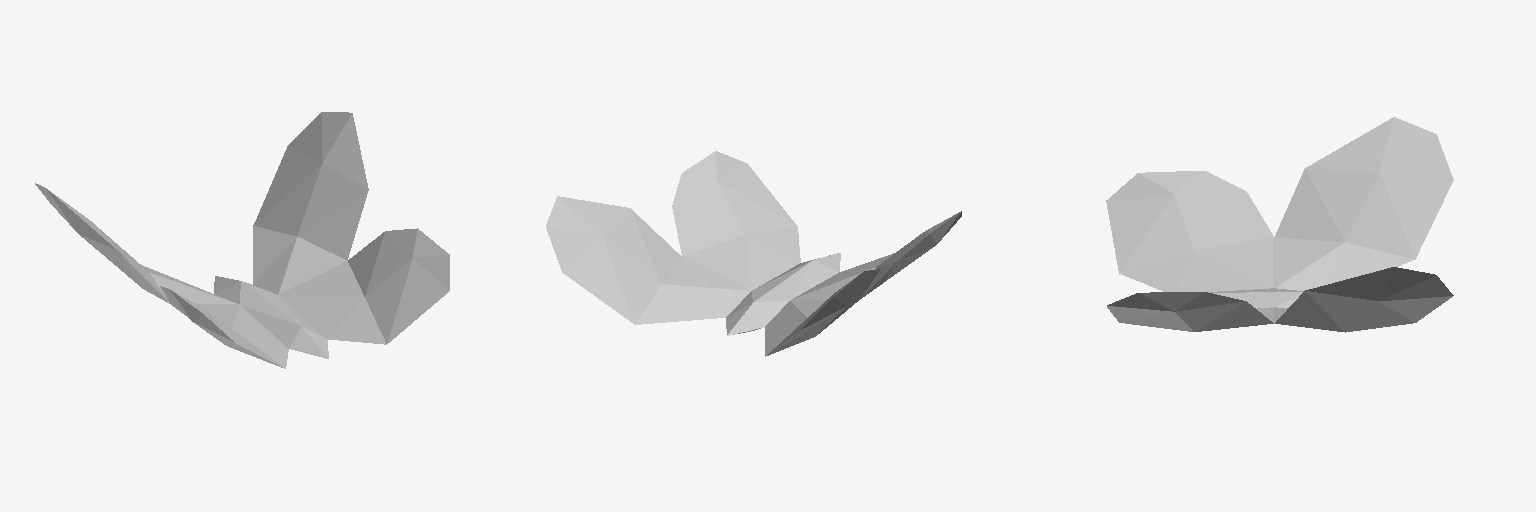
Rendered from ButterflyUp.obj.
3 views of the same model, side by side, from view 1: azimuth 30°, elevation 25°; view 2: azimuth 150°, elevation 25°; view 3: azimuth 270°, elevation 25° (orthographic).
Parts seen in each view (by area): view 1: ButterflyUp; view 2: ButterflyUp; view 3: ButterflyUp.
Boxes of the visible parts, <box> form: ButterflyUp: <box>35,112,449,368</box>; ButterflyUp: <box>546,151,961,356</box>; ButterflyUp: <box>1106,117,1453,332</box>.
Size of the model in its own units: 0.0661 by 0.0264 by 0.0648.